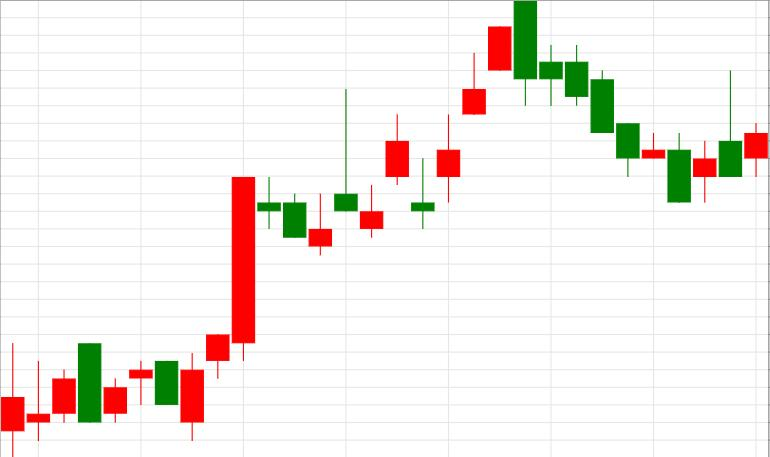bearish_engulfing_fall: (411, 1, 537, 228)
